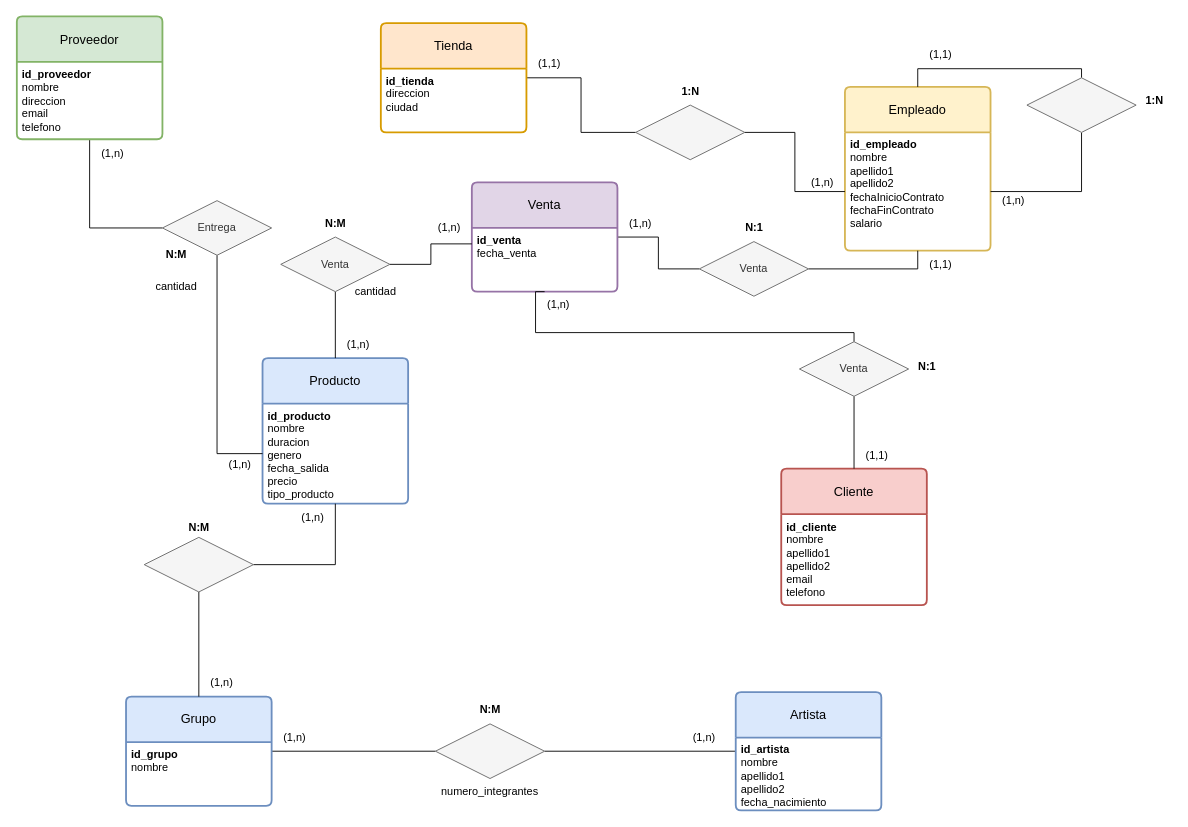
This 1188x827 diagram has some shape labels left out. The shapes that lost their labels are listed below. From the top down, each one's centre as x and y in pixels, then its label:
At (1081,104): "Es jefe".
At (690,132): "Trabaja".
At (198,564): "Producir".
At (490,751): "Pertenece".
